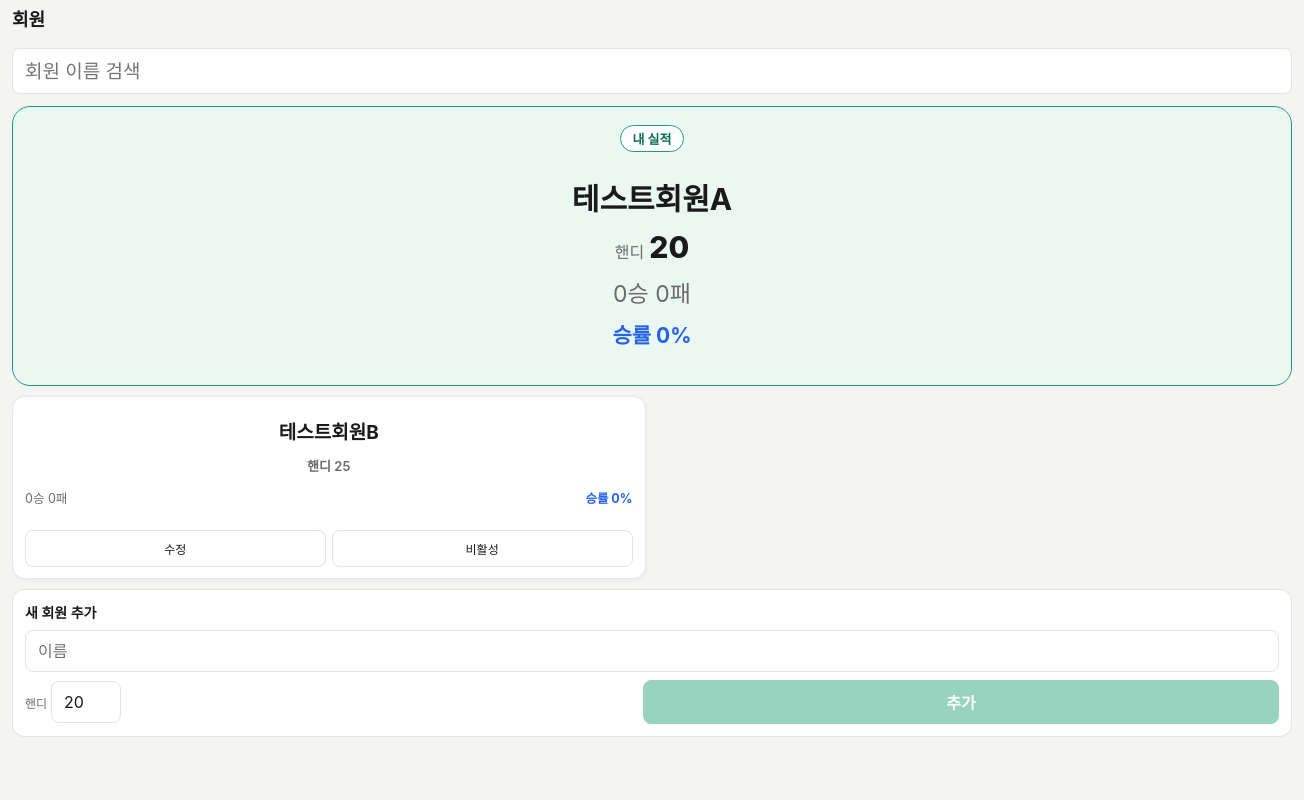
Scenario: MembersTab — 회원 변경 시 자동 서버 저장 › 회원을 추가하면 추가된 회원이 포함된 상태로 서버에 올라간다
This screenshot has width=1304, height=800.
Type "테스트회원C" into the field with placeholder "이름". click: (652, 651)
box: [25,630,1279,672]
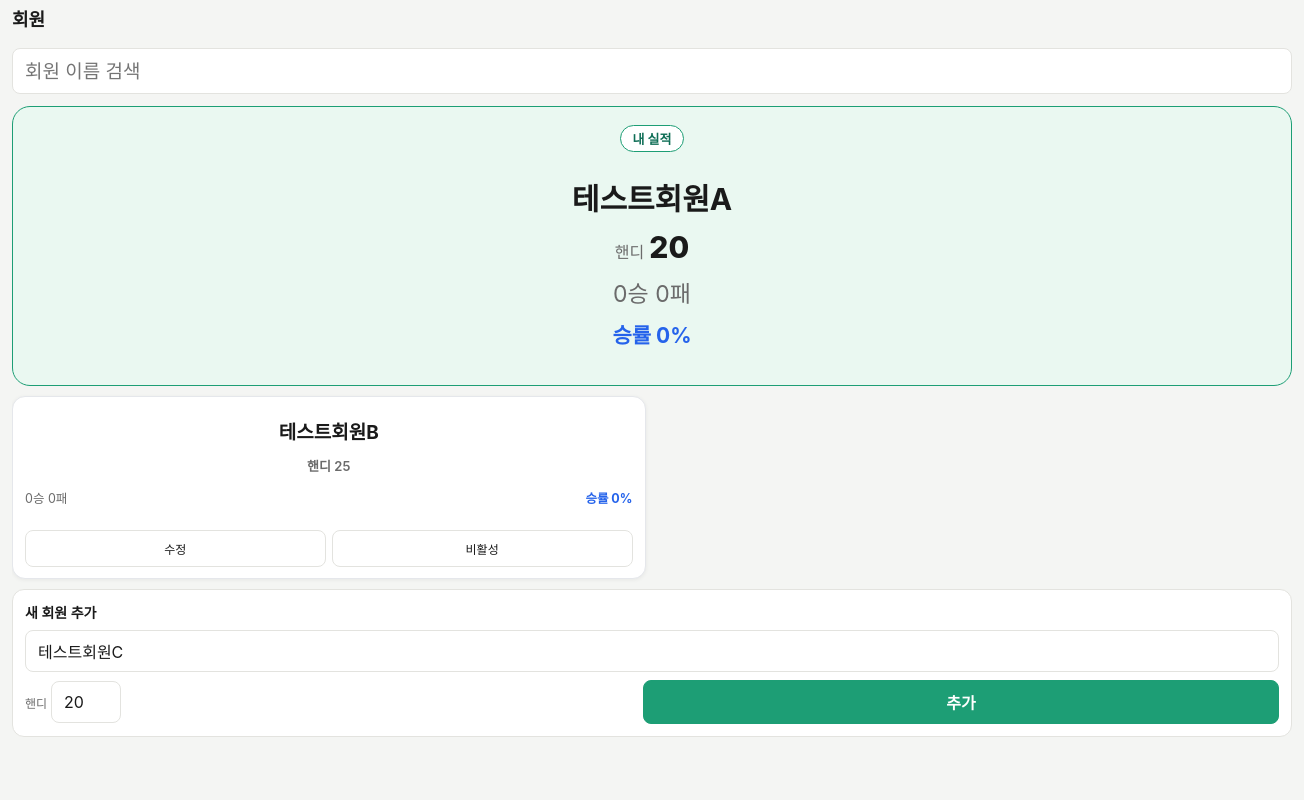
Click the button "추가". click: (961, 702)
box: [643,680,1279,724]
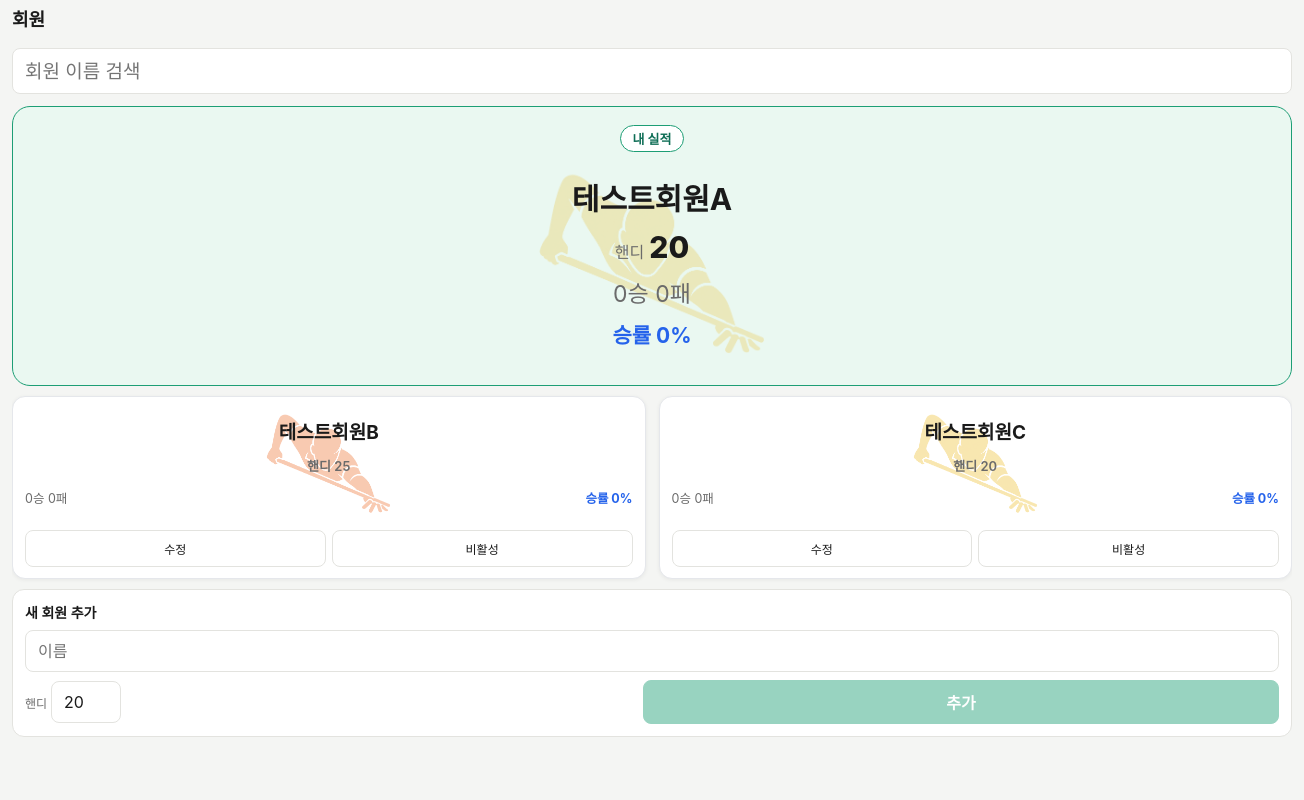
Result: the text "테스트회원C" is shown at [924,421,1026,446]
